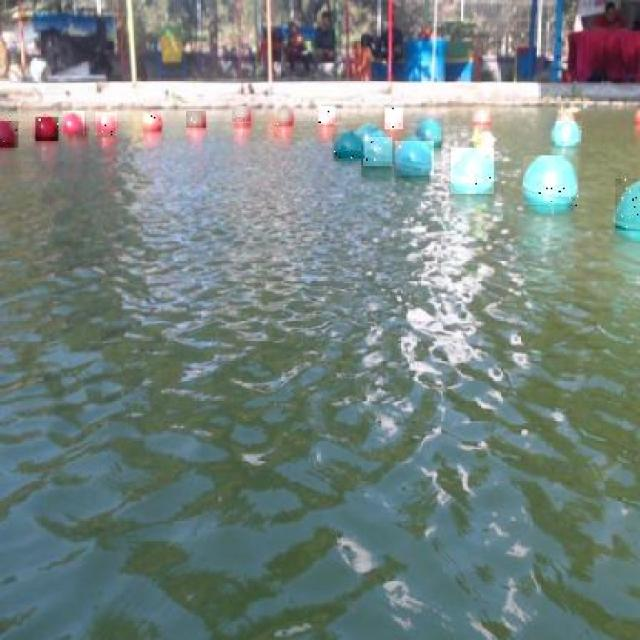green_ball: (522, 156, 579, 209), (449, 148, 495, 194), (395, 140, 434, 176), (615, 178, 640, 232), (356, 118, 388, 155), (550, 116, 583, 150), (362, 137, 393, 168), (335, 129, 365, 157), (416, 119, 442, 145)
red_ball: (61, 110, 86, 139), (34, 112, 57, 140), (94, 111, 118, 137), (0, 115, 18, 146), (385, 106, 405, 132), (188, 109, 208, 129), (318, 107, 337, 127), (472, 110, 493, 128), (275, 104, 293, 125), (145, 111, 163, 132), (234, 106, 250, 127), (635, 108, 640, 126)
